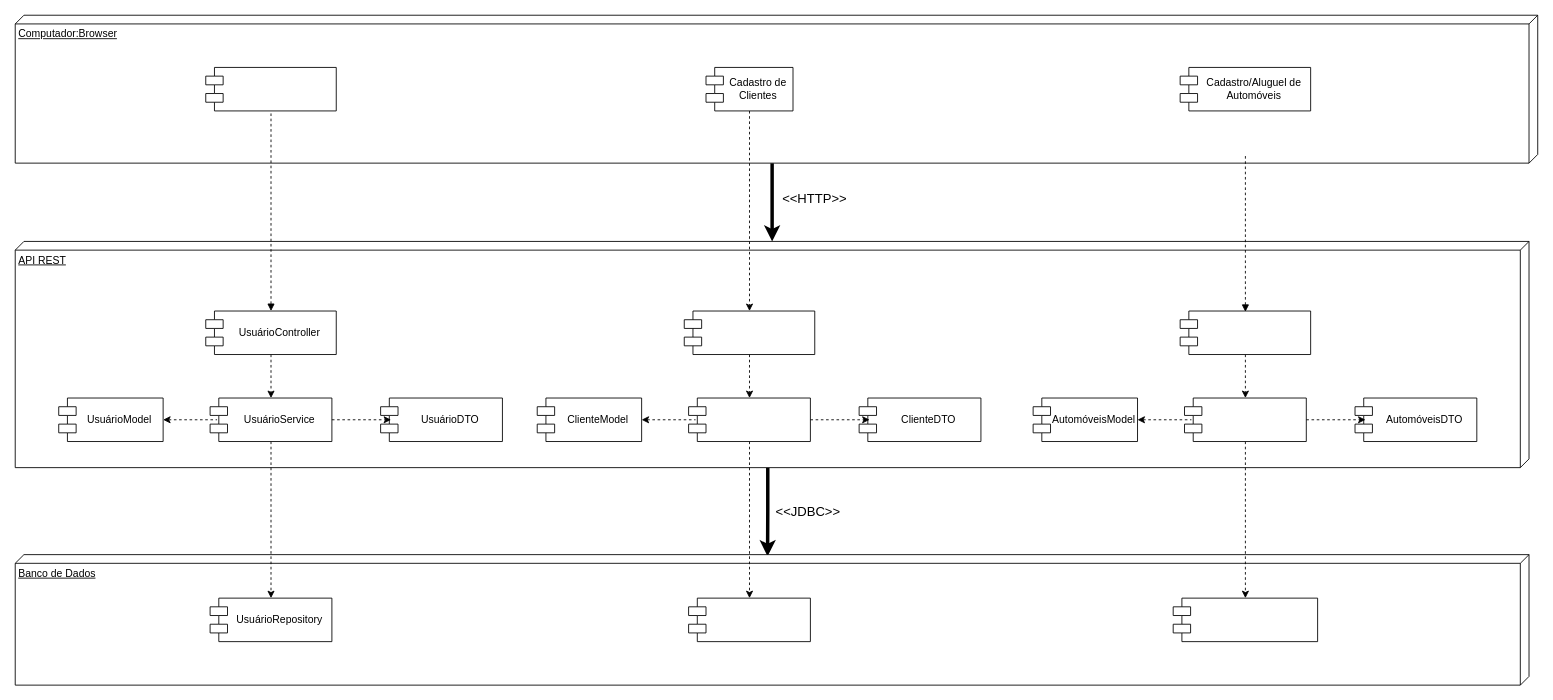
The diagram is 1553 pixels wide and 700 high, and some of its shapes have lost their labels. Each missing label, with the centre of its shape:
"AutomóveisController" goes at point (1245, 332).
"AutomóveisRepository" goes at point (1245, 619).
"AutomóveisService" goes at point (1245, 419).
"Cadastro/Login de Usuário" goes at point (270, 89).
"ClienteController" goes at point (749, 332).
"ClienteRepository" goes at point (749, 619).
"ClienteService" goes at point (749, 419).
